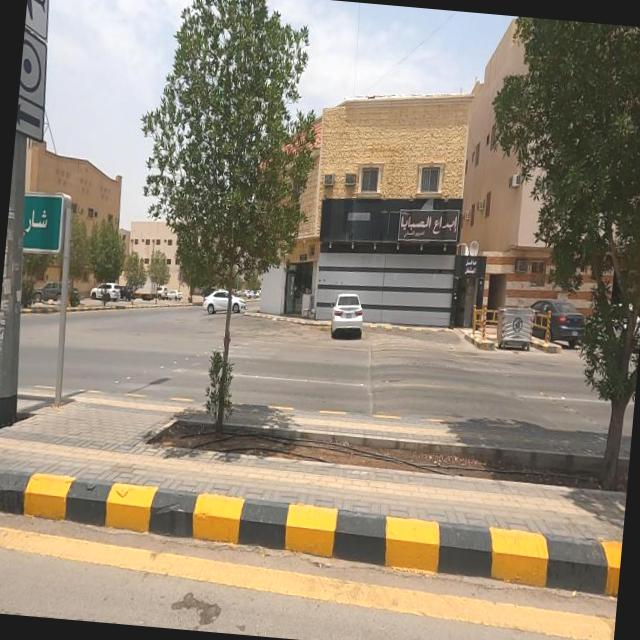debris: (286, 162, 422, 282)
